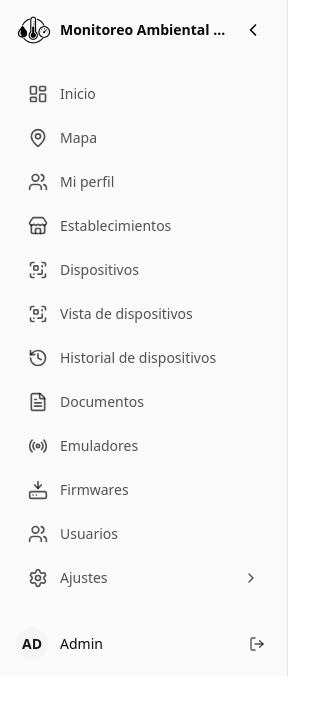
Scenario: Sidebar › keeps Sensores and Variables out of Ajustes without the catalog permission
The width and height of the screenshot is (320, 720).
Click the button "Ajustes". click: (144, 578)
box: top-left (16, 560), bottom-right (271, 596)
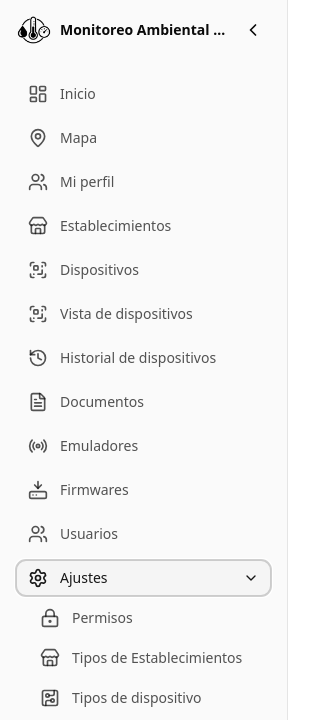
Result: the link "Tipos de dispositivo" is shown at top-left (40, 688), bottom-right (202, 708)
